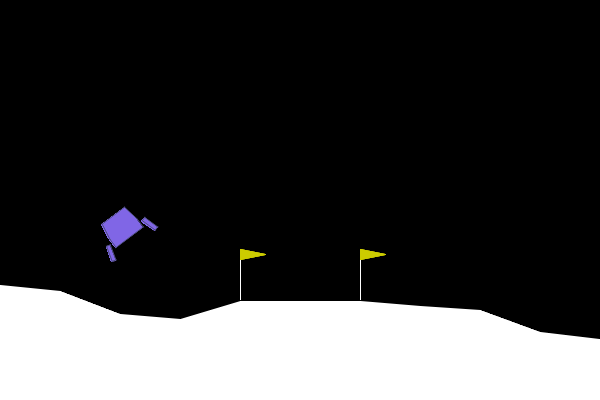lander: (88, 196, 160, 264)
